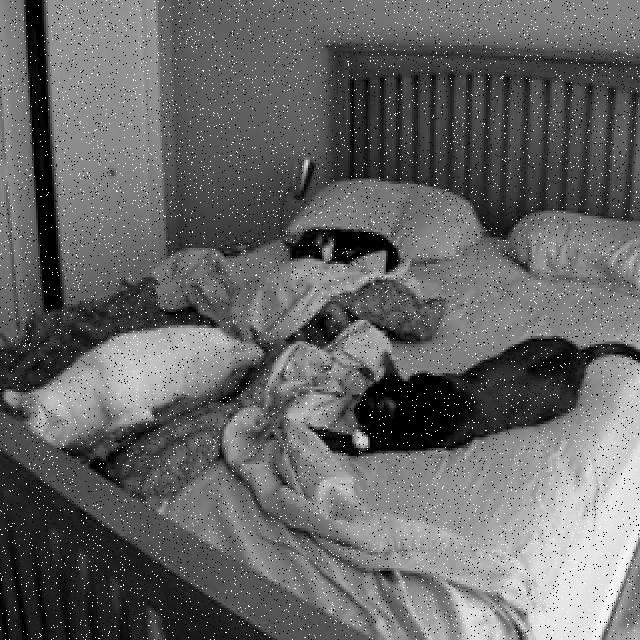bed: (0, 177, 636, 640)
